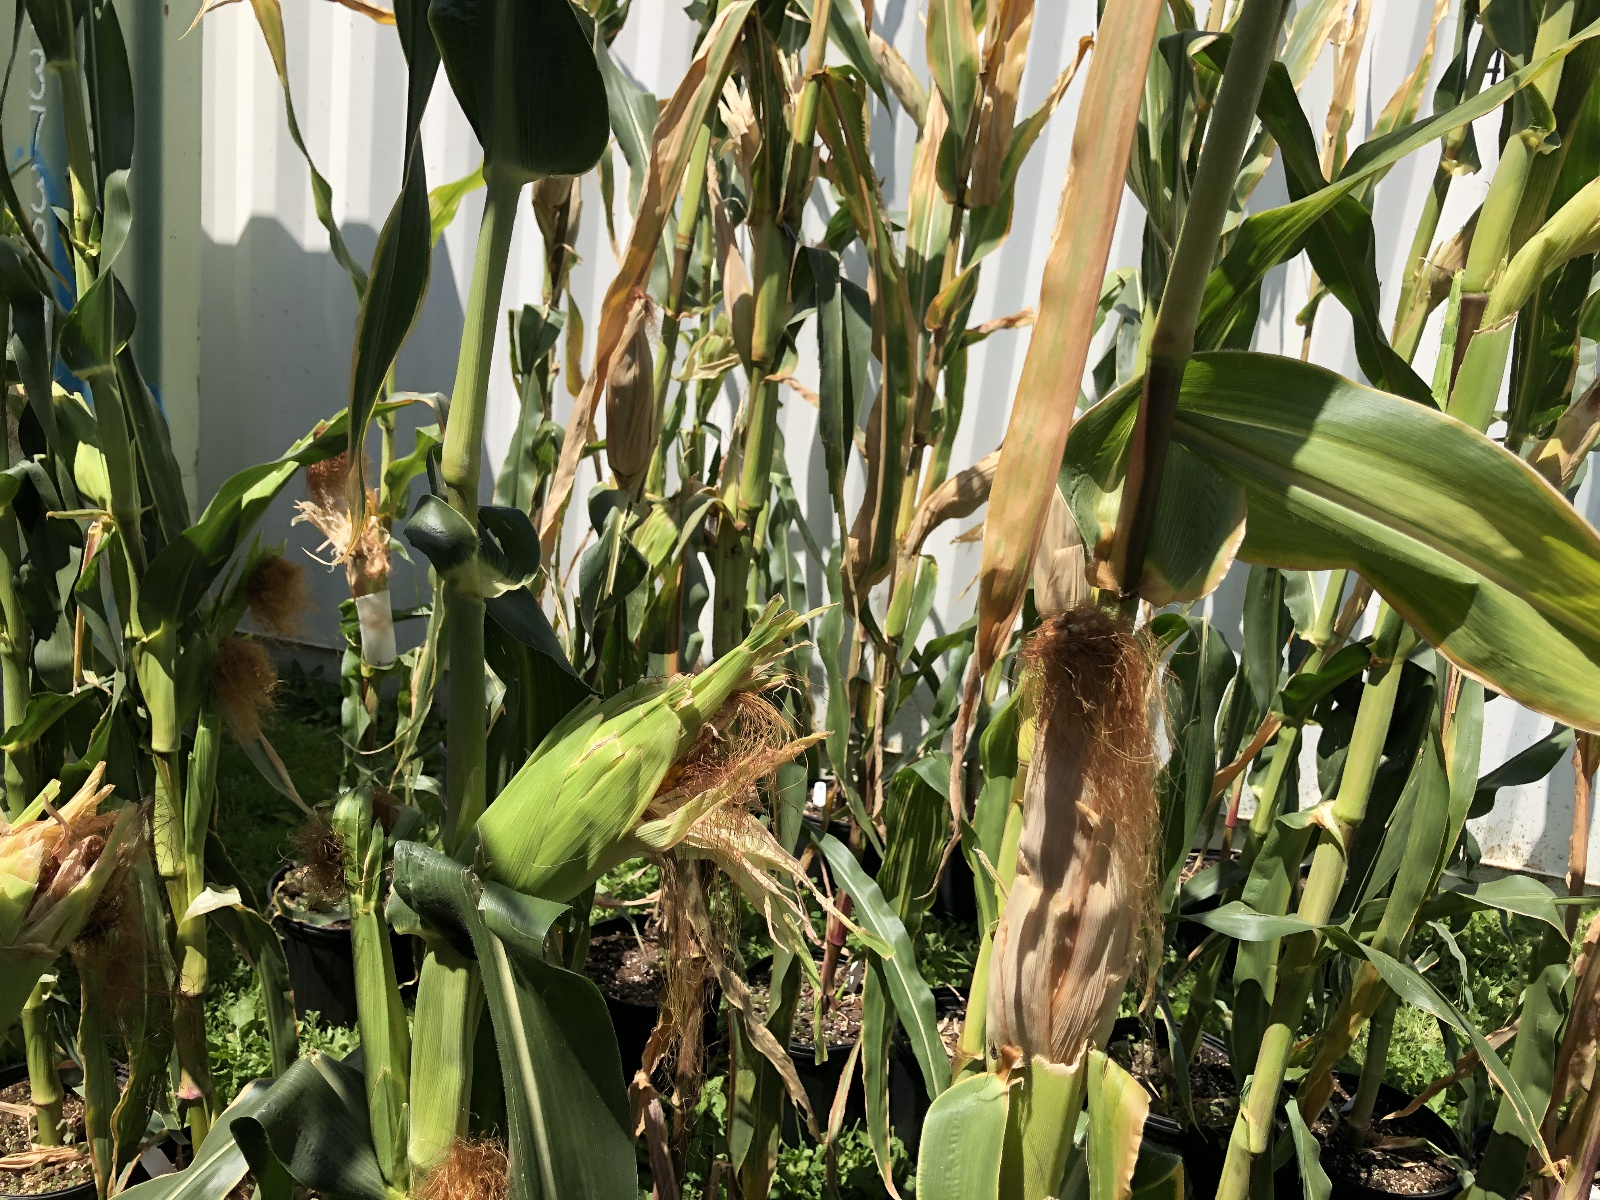ear: (973, 603, 1157, 1082), (484, 645, 794, 892), (1, 808, 137, 1013), (601, 286, 668, 476), (694, 154, 755, 361)
